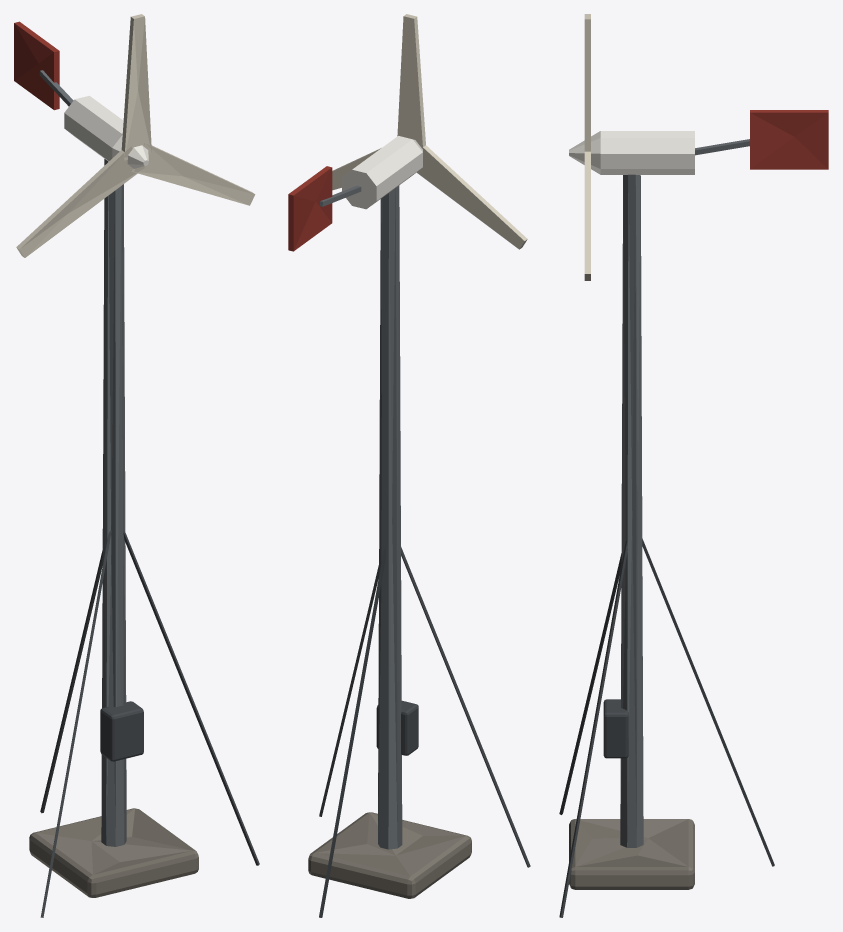
Rendered from wind_turbine_malyy_gorizontalnyy_idle.glb.
3 views of the same model, side by side, from view 1: azimuth 30°, elevation 25°; view 2: azimuth 150°, elevation 25°; view 3: azimuth 270°, elevation 25° (orthographic). The views are drawn at different scales.
Visible parts, largest first — view 1: wind_turbine_malyy_gorizontalnyy_idle; view 2: wind_turbine_malyy_gorizontalnyy_idle; view 3: wind_turbine_malyy_gorizontalnyy_idle.
Boxes of the visible parts, <box> form: wind_turbine_malyy_gorizontalnyy_idle: <box>14,14,259,917</box>; wind_turbine_malyy_gorizontalnyy_idle: <box>288,14,530,917</box>; wind_turbine_malyy_gorizontalnyy_idle: <box>559,14,828,917</box>.
Size of the model in its own units: 0.8514 by 2.98 by 0.8557.
1 material, 1 textured.
